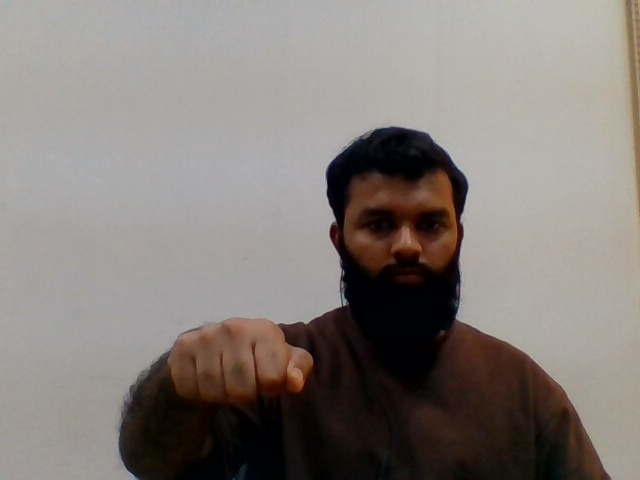Yes: (158, 307, 328, 408)
